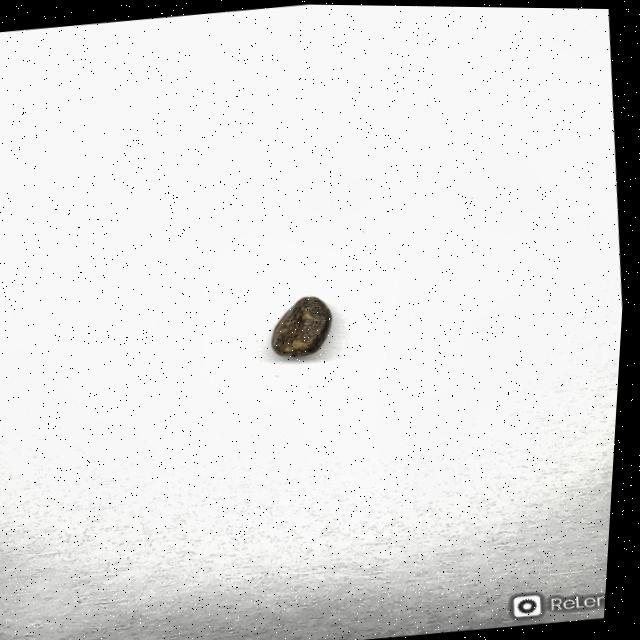Black: (271, 291, 339, 359)
